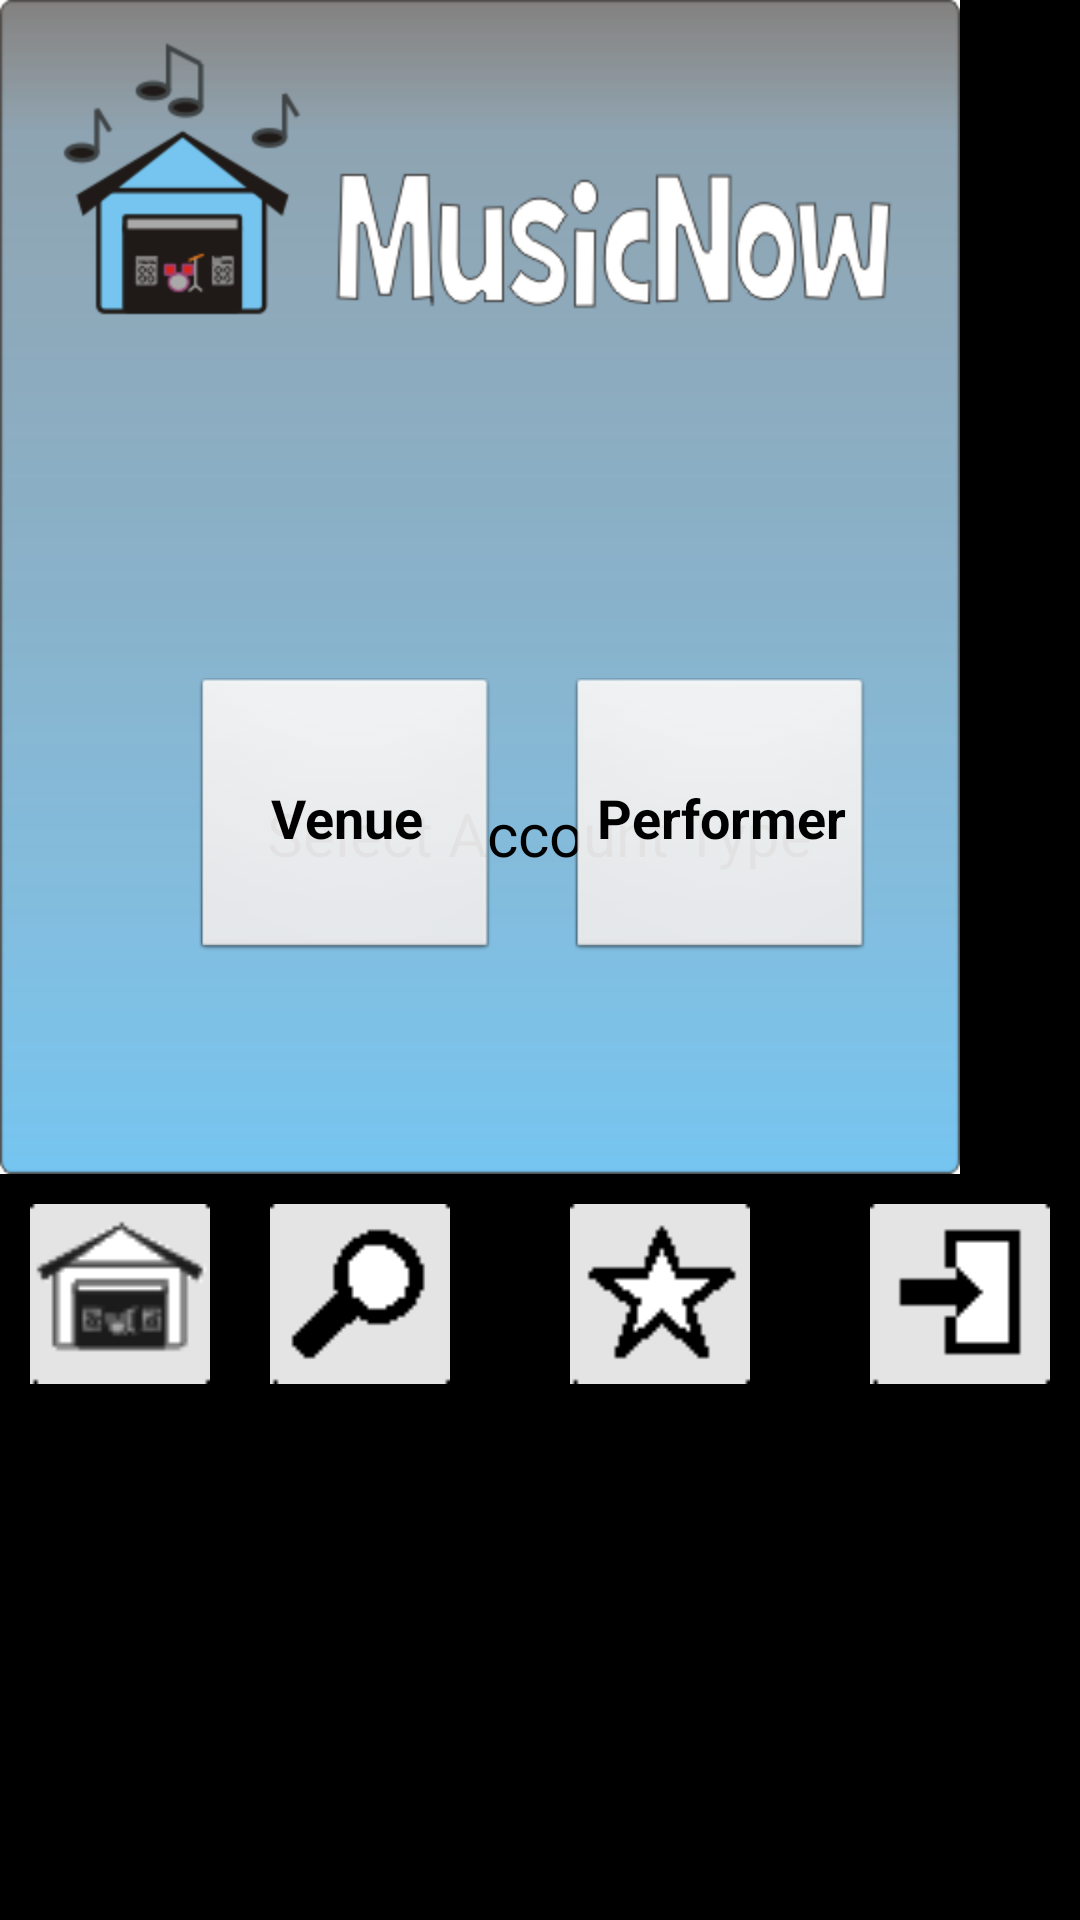

Where icons sit on this 1080×1920 app screen, as (x1, y1, x2, y2):
Favorites: (570, 1204, 750, 1384)
garage: (30, 1204, 210, 1384)
Login: (870, 1204, 1050, 1384)
Search Button: (270, 1204, 450, 1384)
